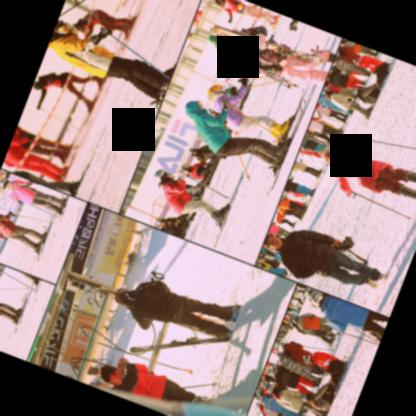backpack: (357, 83, 378, 102)
